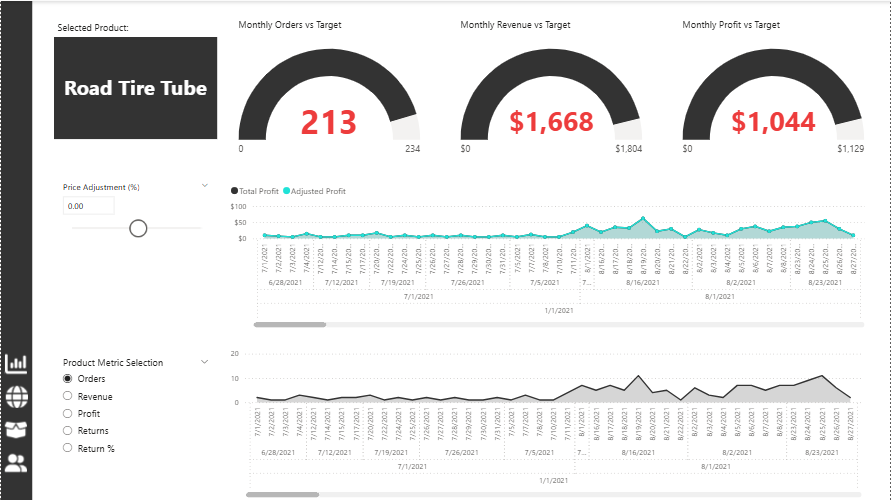

Layout of this report page (visuals, bound fields, positions):
{"tool":"powerbi","page":{"name":"Product Detail","canvas":[1280,720],"ordinal":2},"visuals":[{"type":"shape","box":[0,0,45,720],"z":0},{"type":"gauge","title":"Monthly Orders vs Target","fields":{"Y":["Measure Table.Total Orders"],"MaxValue":["Measure Table.Order Target"]},"box":[337.1,24.7,271.7,229.6],"z":1000},{"type":"actionButton","box":[2,502.6,44.6,40.3],"z":1000,"group":"g1"},{"type":"gauge","title":"Monthly Revenue vs Target","fields":{"Y":["Measure Table.Total Revenue"],"MaxValue":["Measure Table.Revenue Target"]},"box":[656.7,24.7,271.7,229.6],"z":2000},{"type":"actionButton","box":[2,597.6,44.6,40.3],"z":2000,"group":"g1"},{"type":"gauge","title":"Monthly Profit vs Target","fields":{"Y":["Measure Table.Total Profit"],"MaxValue":["Measure Table.Profit Target"]},"box":[976.3,24.7,271.7,229.6],"z":3000},{"type":"actionButton","box":[2,645.2,44.6,40.3],"z":3000,"group":"g1"},{"type":"lineChart","title":"Profit Trending","fields":{"Category":["Calendar Lookup.Date Hierarchy.Start of Year","Calendar Lookup.Date Hierarchy.Start of Month","Calendar Lookup.Date Hierarchy.Start of Week","Calendar Lookup.Date Hierarchy.Date"],"Y":["Measure Table.Total Profit","Measure Table.Adjusted Profit"]},"box":[325.4,253.4,923,221.8],"z":4000},{"type":"actionButton","box":[3.4,550.1,41.8,40.3],"z":4000,"group":"g1"},{"type":"areaChart","title":"Return Trending","fields":{"Y":["Measure Table.Total Orders"],"Category":["Calendar Lookup.Date Hierarchy.Start of Year","Calendar Lookup.Date Hierarchy.Start of Month","Calendar Lookup.Date Hierarchy.Start of Week","Calendar Lookup.Date Hierarchy.Date"]},"box":[325.4,493.9,918.7,226.1],"z":5000},{"type":"card","fields":{"Values":["Min(Product Lookup.ProductName)"]},"box":[76.3,51.8,234.7,146.9],"z":6000},{"type":"textbox","box":[76.3,24.5,136.8,46.1],"z":7000},{"type":"group","id":"g1","title":"Navigation Buttons","box":[2,502.6,44.6,182.9],"z":8000},{"type":"slicer","fields":{"Values":["Price Adjustment (%).Price Adjustment (%)"]},"box":[76.3,253.4,234.7,126.7],"z":9000},{"type":"slicer","fields":{"Values":["Product Metric Selection.Product Metric Selection"]},"box":[76.3,506.9,234.7,180],"z":10000}]}

Visuals, with their boxes on the page's 1280x720 design canvas (x1, y1, x2, y2). These are canvas units, not pixel positions in the 891x500 screenshot, which may show the page scaled, cropped or inside an application window:
shape: box=[0, 0, 45, 720]
"Monthly Orders vs Target" gauge: box=[337, 25, 609, 254]
actionButton: box=[2, 503, 47, 543]
"Monthly Revenue vs Target" gauge: box=[657, 25, 928, 254]
actionButton: box=[2, 598, 47, 638]
"Monthly Profit vs Target" gauge: box=[976, 25, 1248, 254]
actionButton: box=[2, 645, 47, 686]
"Profit Trending" lineChart: box=[325, 253, 1248, 475]
actionButton: box=[3, 550, 45, 590]
"Return Trending" areaChart: box=[325, 494, 1244, 720]
card - Min(Product Lookup.ProductName): box=[76, 52, 311, 199]
textbox: box=[76, 24, 213, 71]
"Navigation Buttons" group: box=[2, 503, 47, 686]
slicer - Price Adjustment (%).Price Adjustment (%): box=[76, 253, 311, 380]
slicer - Product Metric Selection.Product Metric Selection: box=[76, 507, 311, 687]
